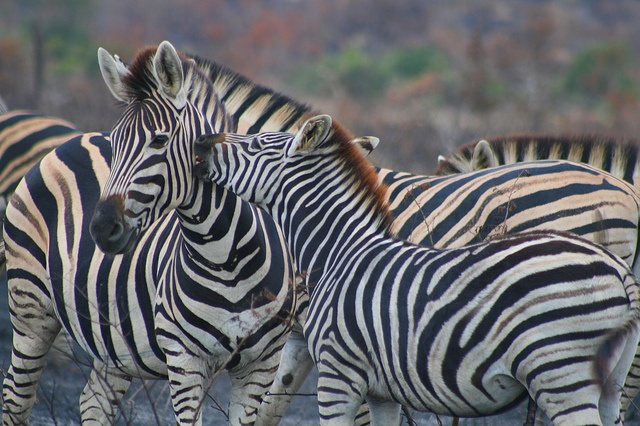zebra: (192, 112, 640, 423), (5, 39, 298, 425)
